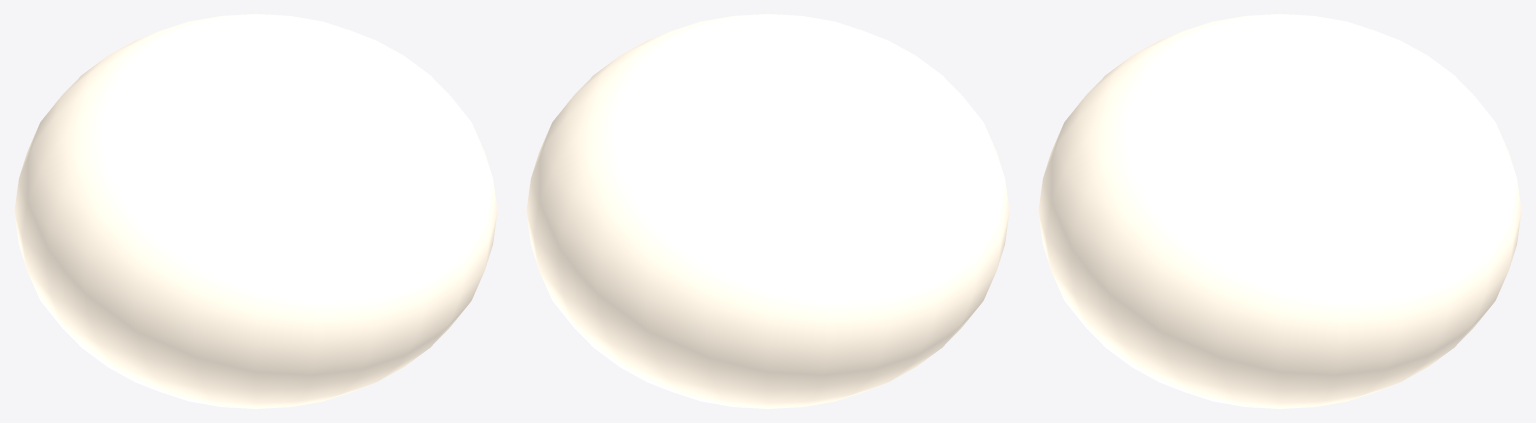
File: SM_Momo_Collectible.glb
The picture shows the model from 3 angles, left to right: view 1: azimuth 30°, elevation 25°; view 2: azimuth 150°, elevation 25°; view 3: azimuth 270°, elevation 25°; orthographic projection.
Parts seen in each view (by area): view 1: SM_Momo_Collectible; view 2: SM_Momo_Collectible; view 3: SM_Momo_Collectible.
Boxes of the visible parts, x1=… form: SM_Momo_Collectible: x1=14, y1=14, x2=497, y2=408; SM_Momo_Collectible: x1=526, y1=14, x2=1009, y2=408; SM_Momo_Collectible: x1=1038, y1=14, x2=1521, y2=408.
Bounding box in the file's own units: 0.484 × 0.374 × 0.484.
